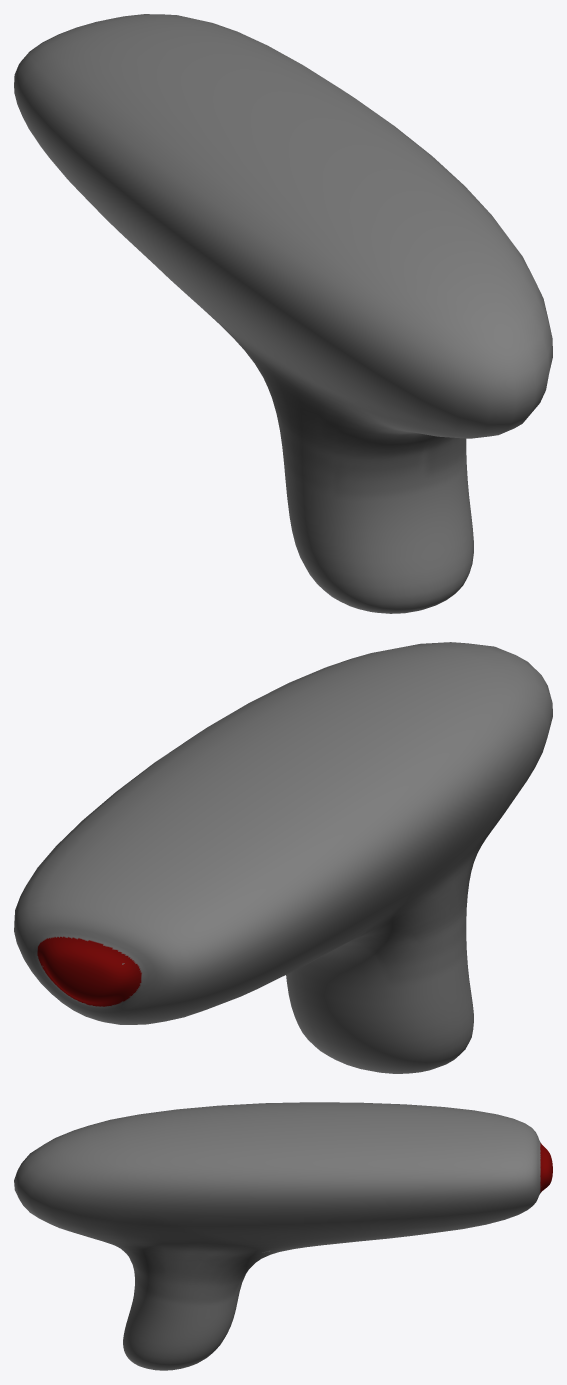
File: Waffe01.obj
The picture shows the model from 3 angles, top to bottom: view 1: azimuth 30°, elevation 25°; view 2: azimuth 150°, elevation 25°; view 3: azimuth 270°, elevation 25°; orthographic projection. The views are drawn at different scales.
Parts seen in each view (by area): view 1: Cube; view 2: Cube; view 3: Cube.
Part boxes in pixels (box(x1,y1,x2,y2)): Cube: box(14, 14, 552, 613); Cube: box(14, 642, 552, 1073); Cube: box(14, 1102, 552, 1370).
Bounding box in the file's own units: 0.4805 × 0.6931 × 1.41.
1 material, 1 textured.
